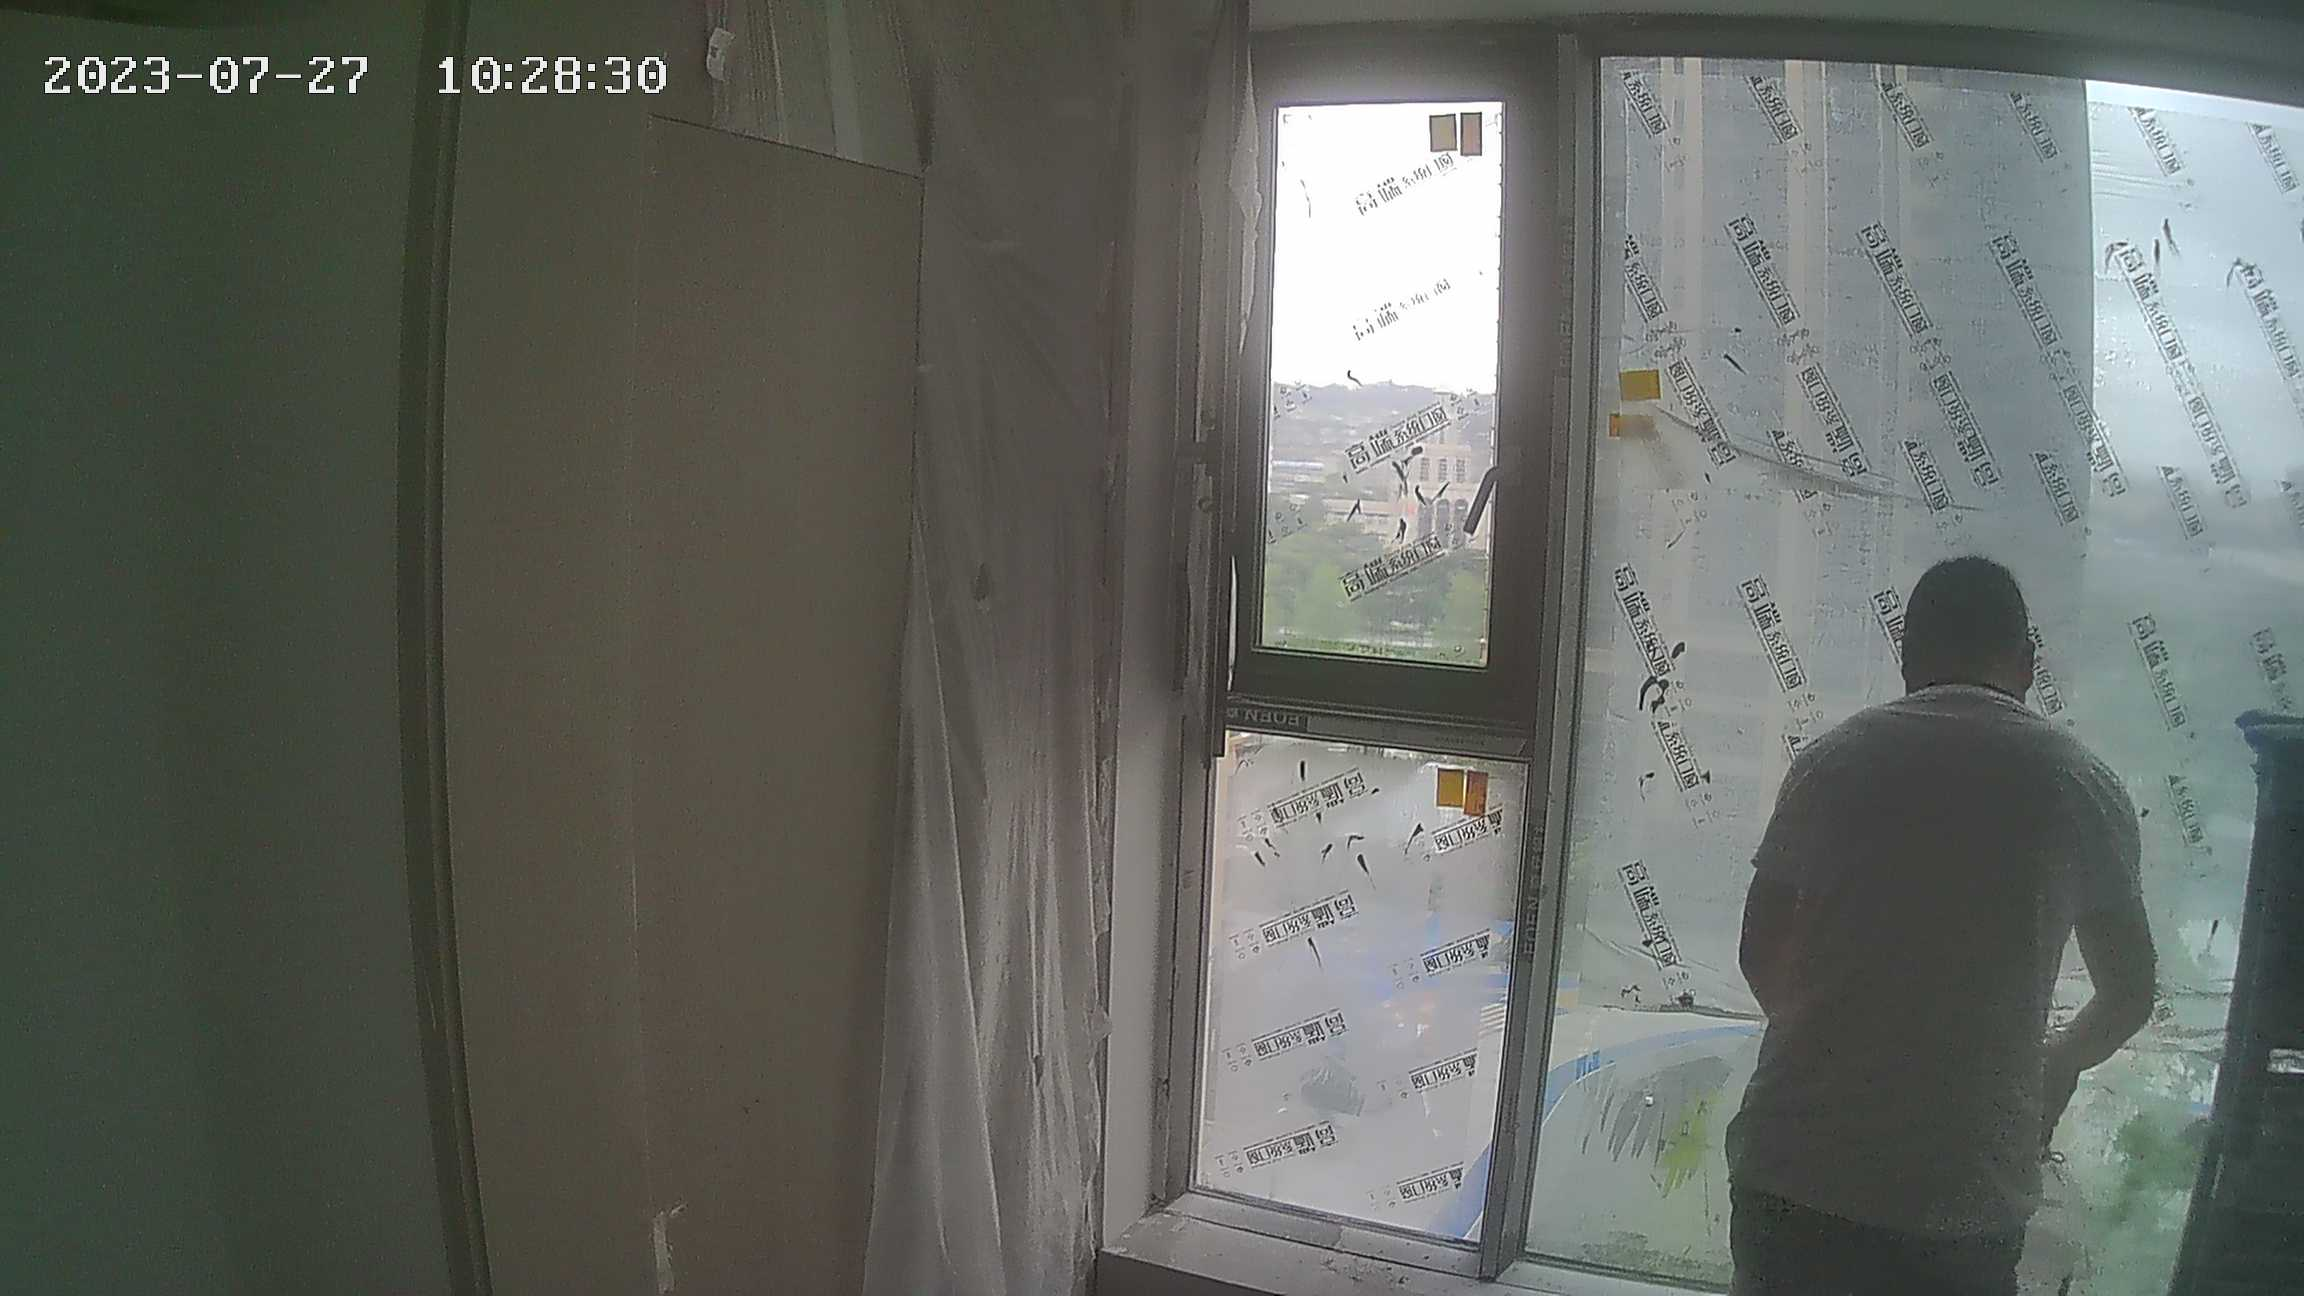people: (1739, 552, 2162, 1296)
window: (1187, 35, 2304, 1284)
